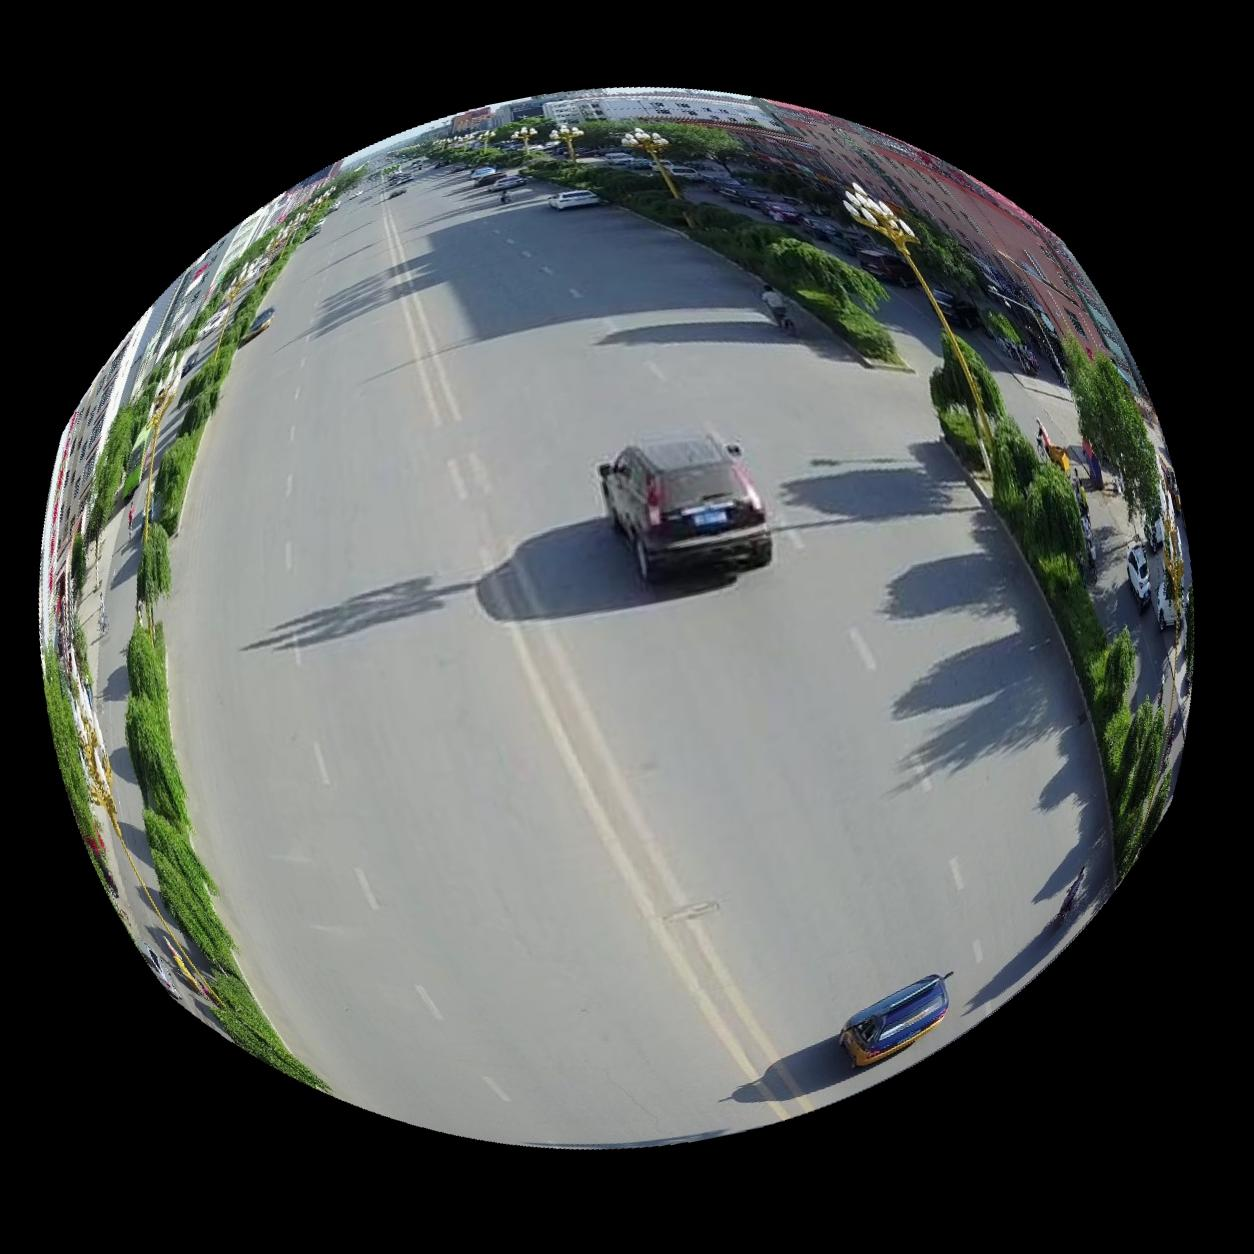cars: (599, 426, 774, 583), (843, 974, 955, 1069), (1129, 542, 1155, 611), (239, 307, 273, 345), (549, 187, 605, 210)
trees: (993, 416, 1112, 678), (1065, 334, 1164, 529), (41, 649, 111, 893), (768, 237, 903, 363), (145, 811, 237, 975), (1102, 700, 1174, 857), (85, 382, 153, 540), (125, 696, 186, 833), (931, 335, 992, 469), (694, 204, 790, 271), (154, 432, 200, 535), (960, 336, 1007, 429), (1096, 628, 1139, 727), (136, 522, 171, 627), (176, 369, 222, 435), (125, 625, 164, 700)
